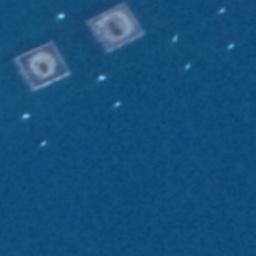square_cover: (11, 39, 73, 93), (83, 2, 145, 54)
